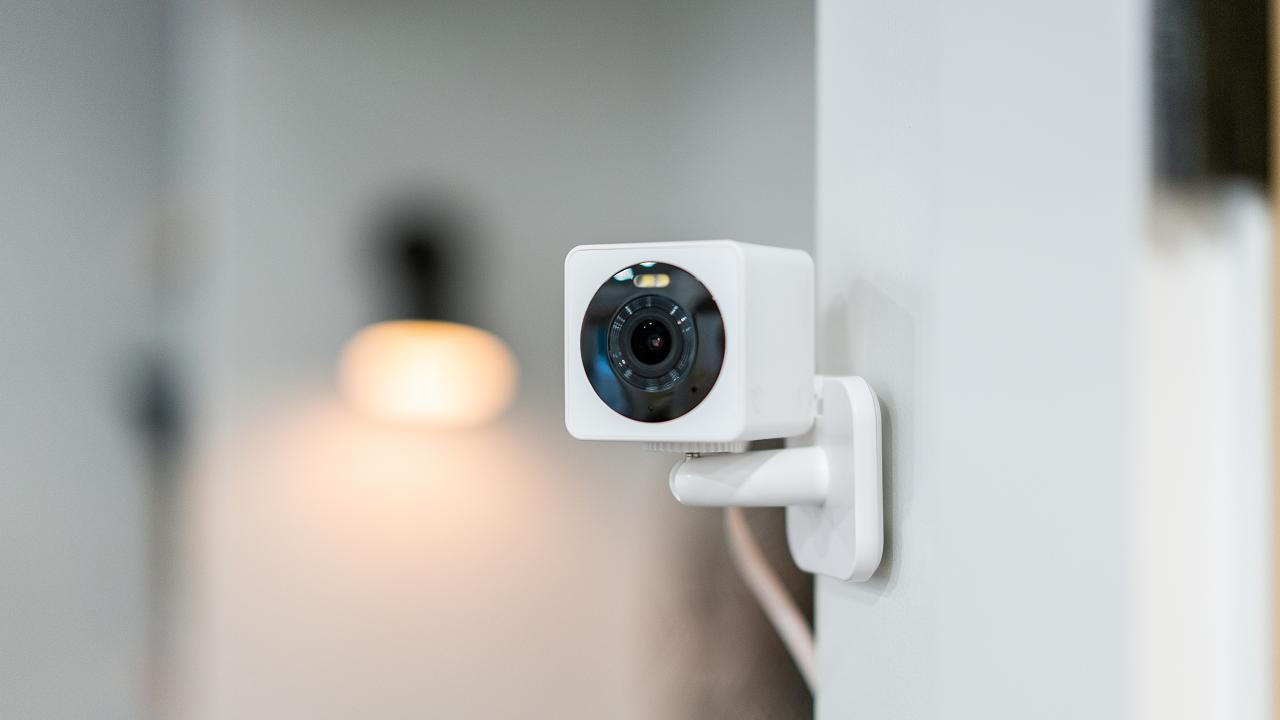camera: (540, 192, 888, 566)
